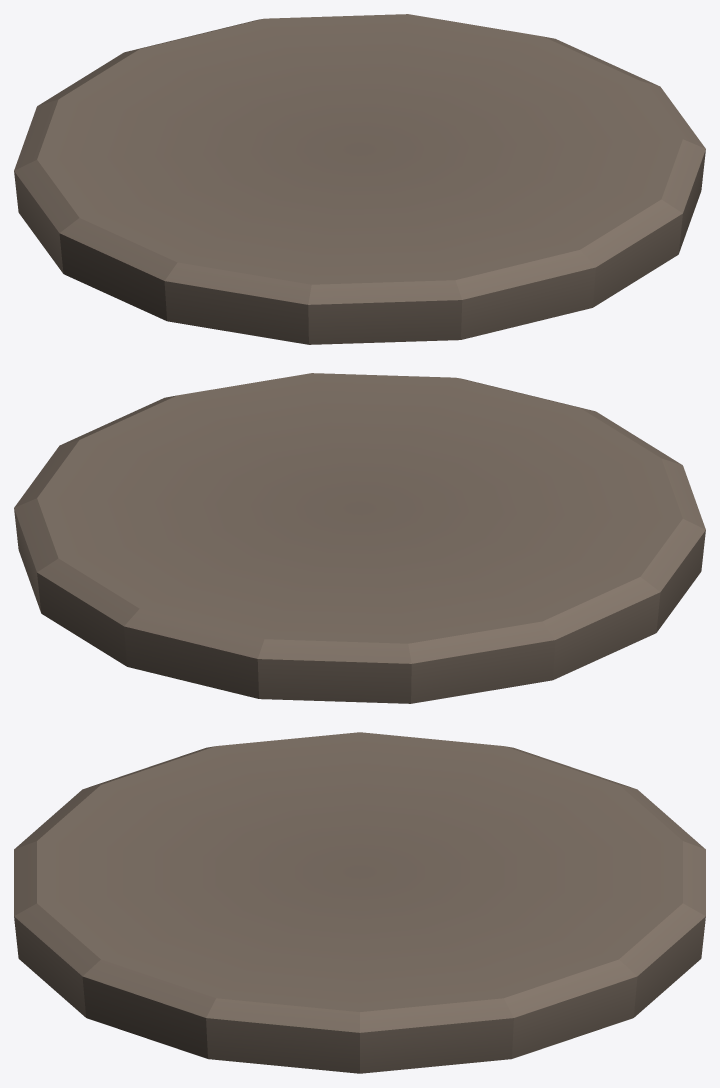
Rendered from SM_BM_BP_Saucer.glb.
The picture shows the model from 3 angles, top to bottom: view 1: azimuth 30°, elevation 25°; view 2: azimuth 150°, elevation 25°; view 3: azimuth 270°, elevation 25°; orthographic projection. The views are drawn at different scales.
Visible parts, largest first — view 1: SM_BM_BP_Saucer; view 2: SM_BM_BP_Saucer; view 3: SM_BM_BP_Saucer.
Part boxes in pixels (x1=…): SM_BM_BP_Saucer: x1=14, y1=14, x2=705, y2=344; SM_BM_BP_Saucer: x1=14, y1=373, x2=705, y2=703; SM_BM_BP_Saucer: x1=14, y1=732, x2=705, y2=1073.
Size of the model in its own units: 0.6 by 0.05 by 0.585.
